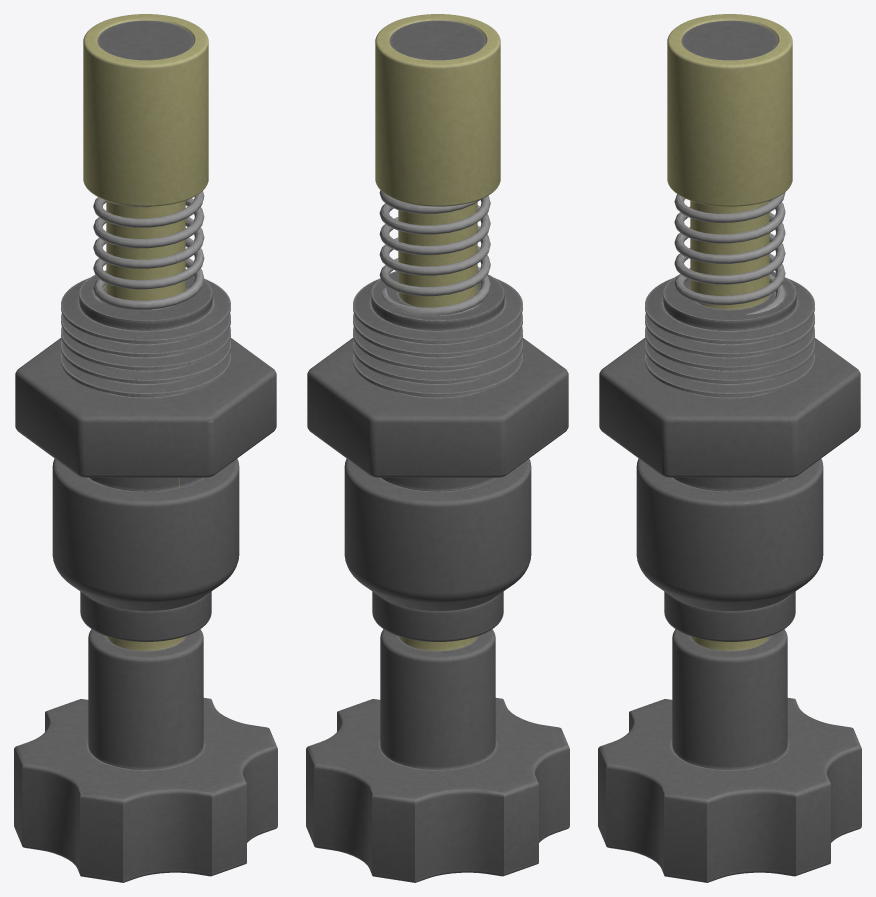
File: choke.glb
3 views of the same model, side by side, from view 1: azimuth 30°, elevation 25°; view 2: azimuth 150°, elevation 25°; view 3: azimuth 270°, elevation 25° (orthographic).
Visible parts, largest first — view 1: choke; view 2: choke; view 3: choke.
Part boxes in pixels (left/top/right/bottom): choke: left=14, top=14, right=277, bottom=882; choke: left=306, top=14, right=569, bottom=882; choke: left=598, top=14, right=861, bottom=882.
Bounding box in the file's own units: 0.5006 × 1.68 × 0.5083.
Materials: 1 (1 with a texture image).
